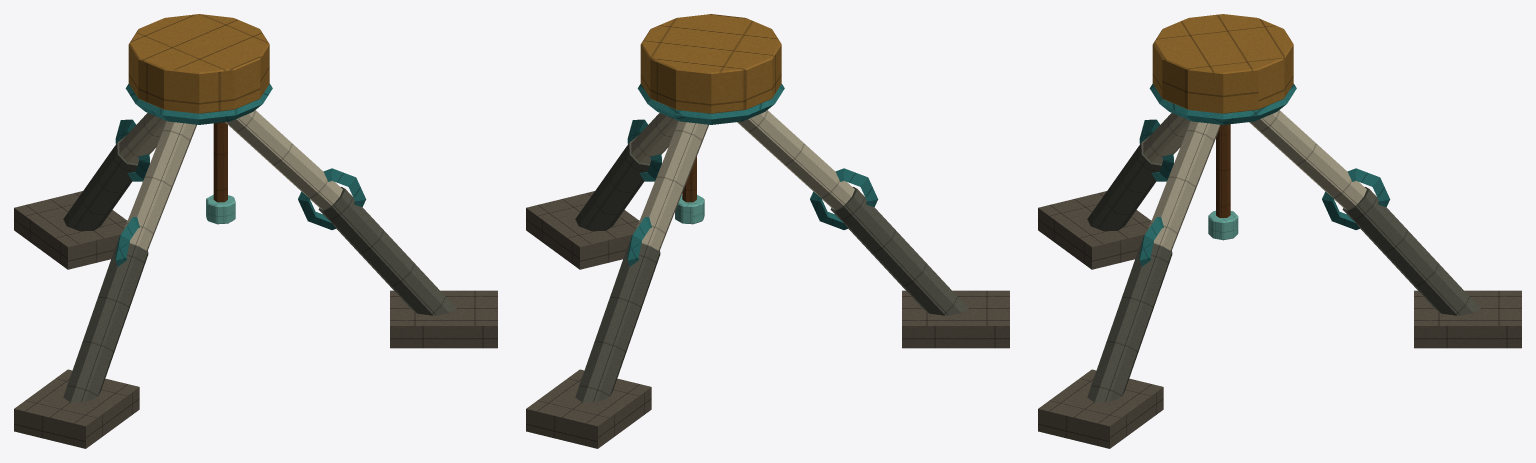
File: lander-legs.e8.glb
The picture shows the model from 3 angles, left to right: view 1: azimuth 30°, elevation 25°; view 2: azimuth 150°, elevation 25°; view 3: azimuth 270°, elevation 25°; orthographic projection.
Visible parts, largest first — view 1: LanderLegsE8; view 2: LanderLegsE8; view 3: LanderLegsE8.
Boxes of the visible parts, bbox=[...] form: LanderLegsE8: bbox=[14, 14, 497, 448]; LanderLegsE8: bbox=[526, 14, 1009, 448]; LanderLegsE8: bbox=[1038, 14, 1521, 448].
Size of the model in its own units: 2.69 by 1.53 by 2.33.
Materials: 1 (1 with a texture image).
